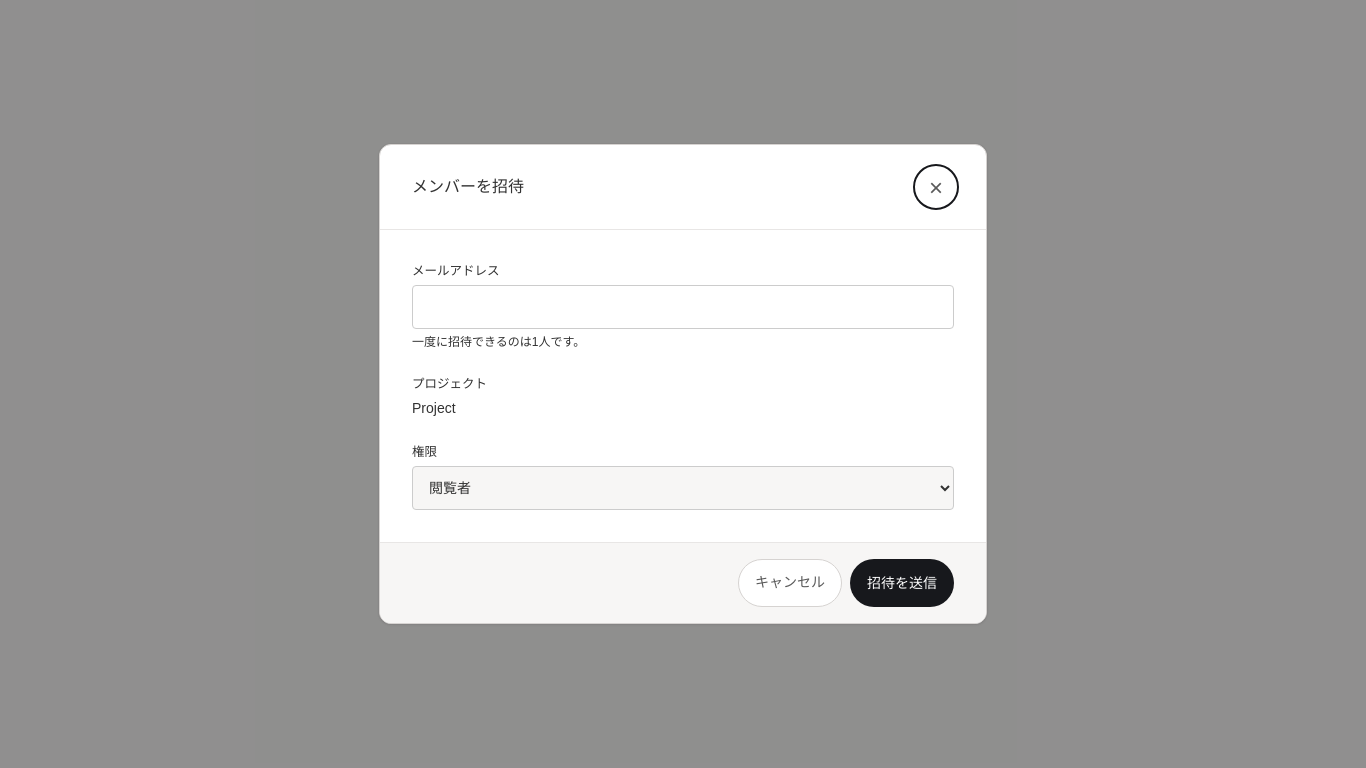
Scenario: InviteMemberDialog › shows a validation error and does not submit a malformed email
Type "invalid-email" into the field.
click(683, 307); type("invalid-email")  # box x1=412 y1=285 x2=954 y2=329
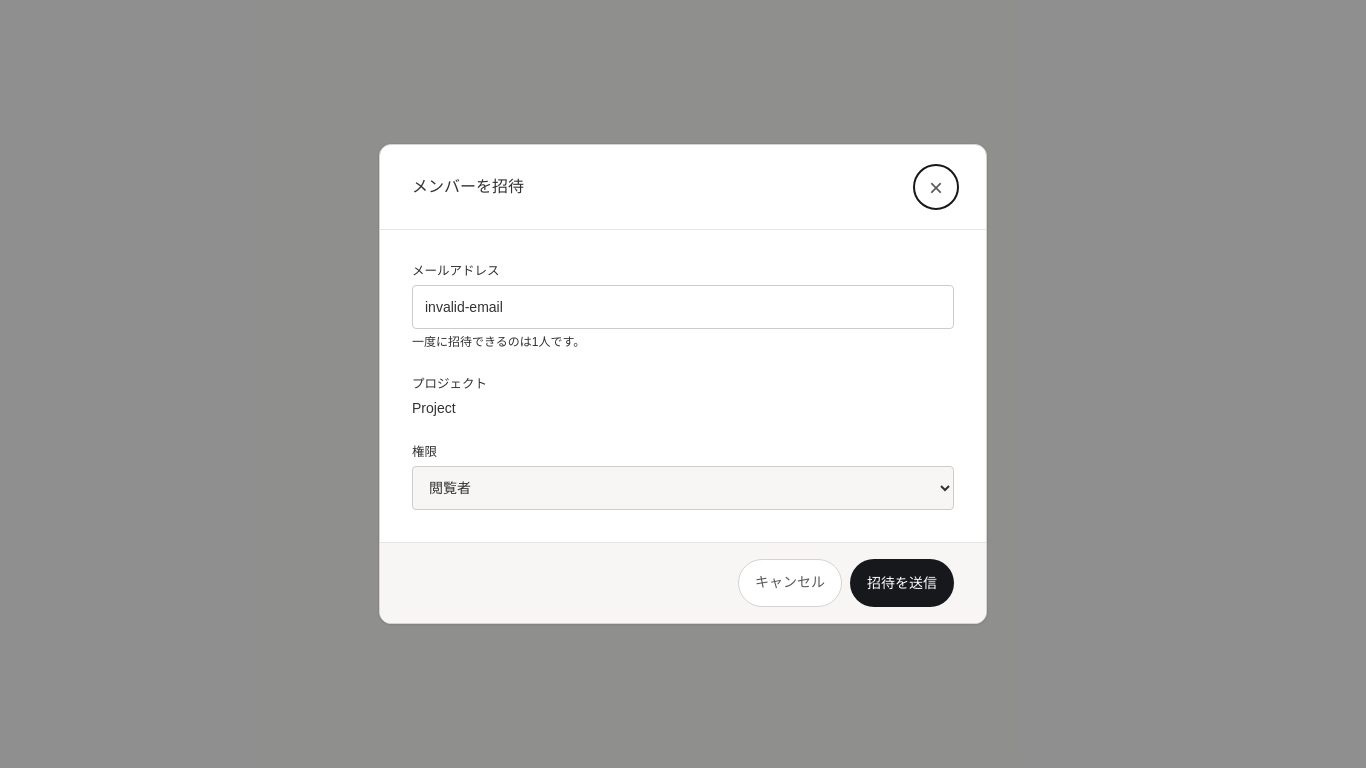
Click the button "招待を送信".
click(902, 583)  # box x1=850 y1=559 x2=954 y2=607
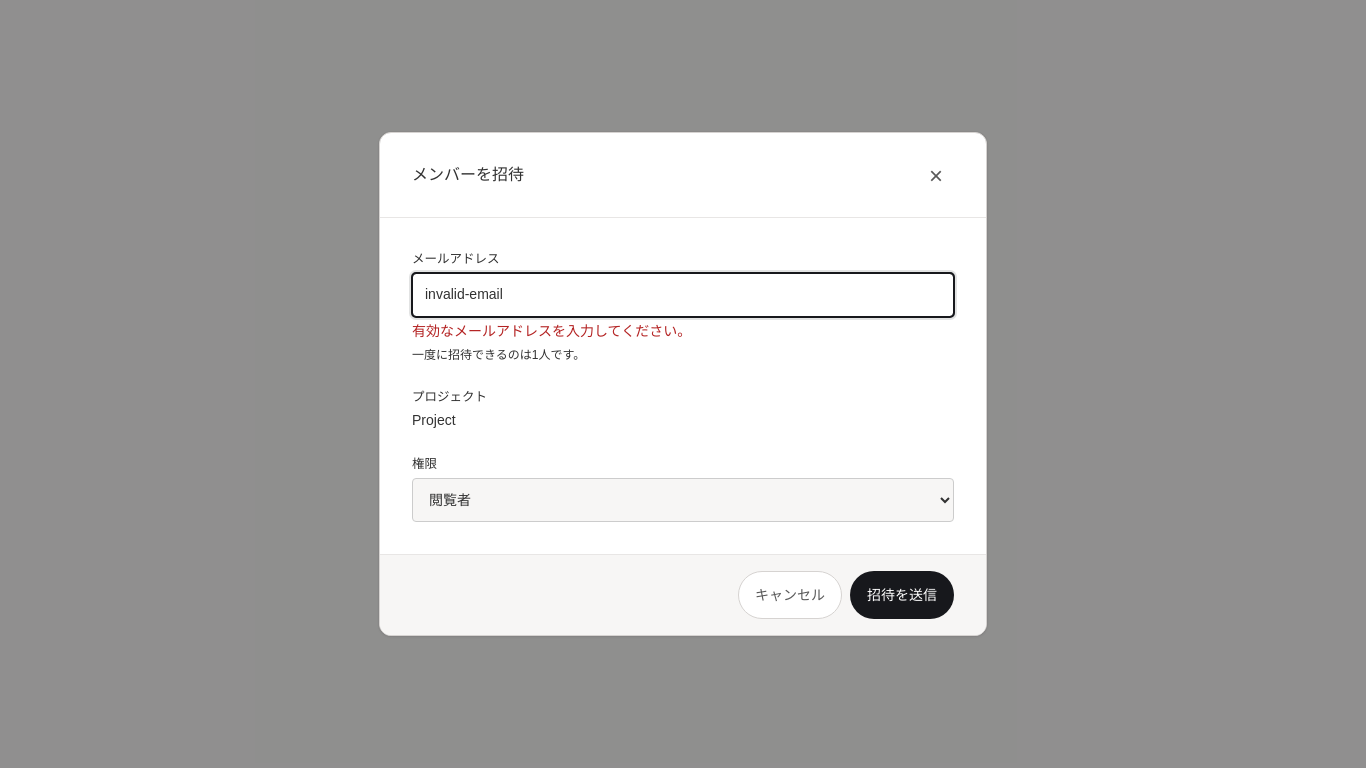
expect the message reads "有効なメールアドレスを入力してください。": met, box x1=412 y1=323 x2=691 y2=339
